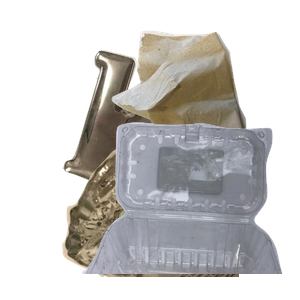glass: (60, 120, 300, 300)
metal: (60, 47, 300, 227)
plastic: (80, 120, 300, 300)
trash: (109, 28, 300, 208)
